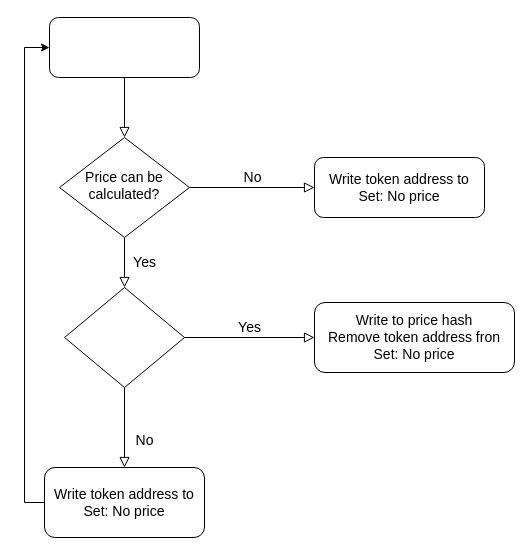
Image size: 532x555. Some labels were removed from this diagram. The shapes that lost their labels are listed below. From the top down, each one's centre as x and y in pixels, then its label:
the point at 124,47: Calculate price of token via a pool
the point at 124,337: Price is acceptable?
